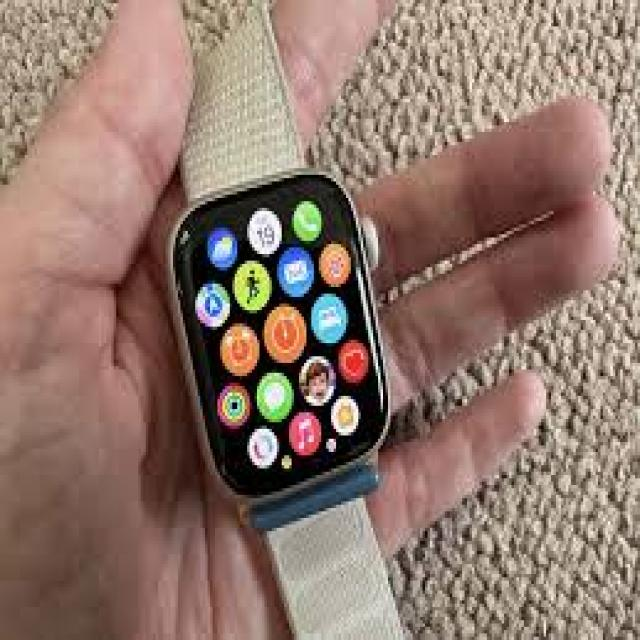objects: (164, 157, 391, 532)
